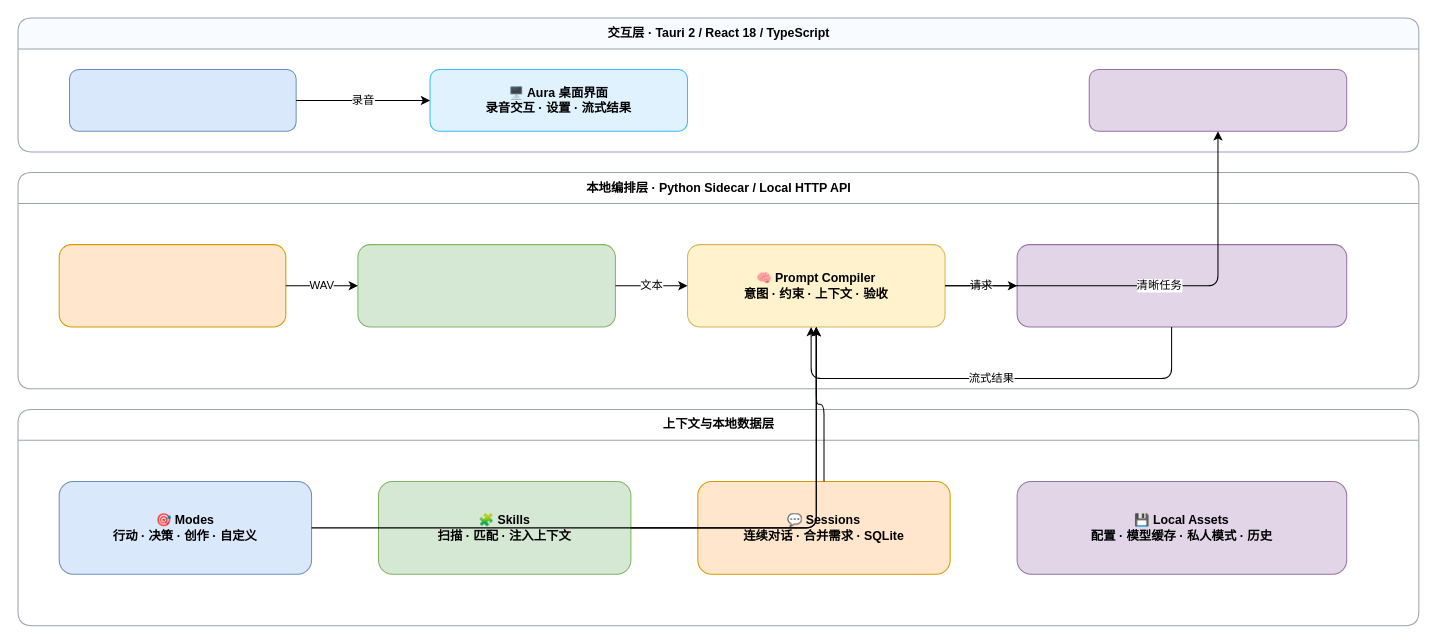
The diagram is 1437 pixels wide and 644 high, and some of its shapes have lost their labels. Each missing label, with the box of its shape:
☁️ LLM Provider DeepSeek / Ollama / vLLM / 网关: (1016, 244, 1347, 327)
🎙️ 用户语音 按住 Space / 麦克风输入: (68, 68, 296, 131)
🎚️ AudioRecorder PyAudio · WAV · 音量检测: (58, 244, 286, 327)
🔒 本地 STT SenseVoice / Whisper Large V3: (357, 244, 615, 327)
🤖 Agent 工具 Codex · Claude Code · Cursor: (1088, 68, 1347, 131)
